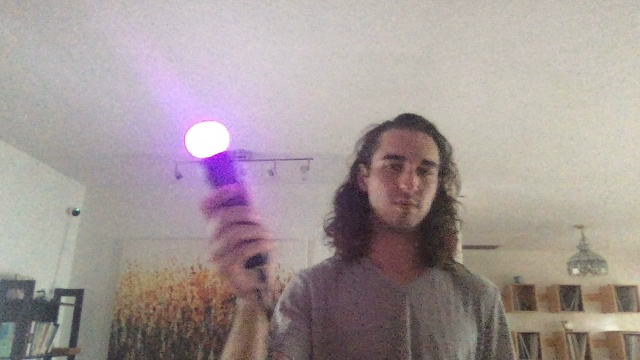wand: (187, 122, 229, 158)
